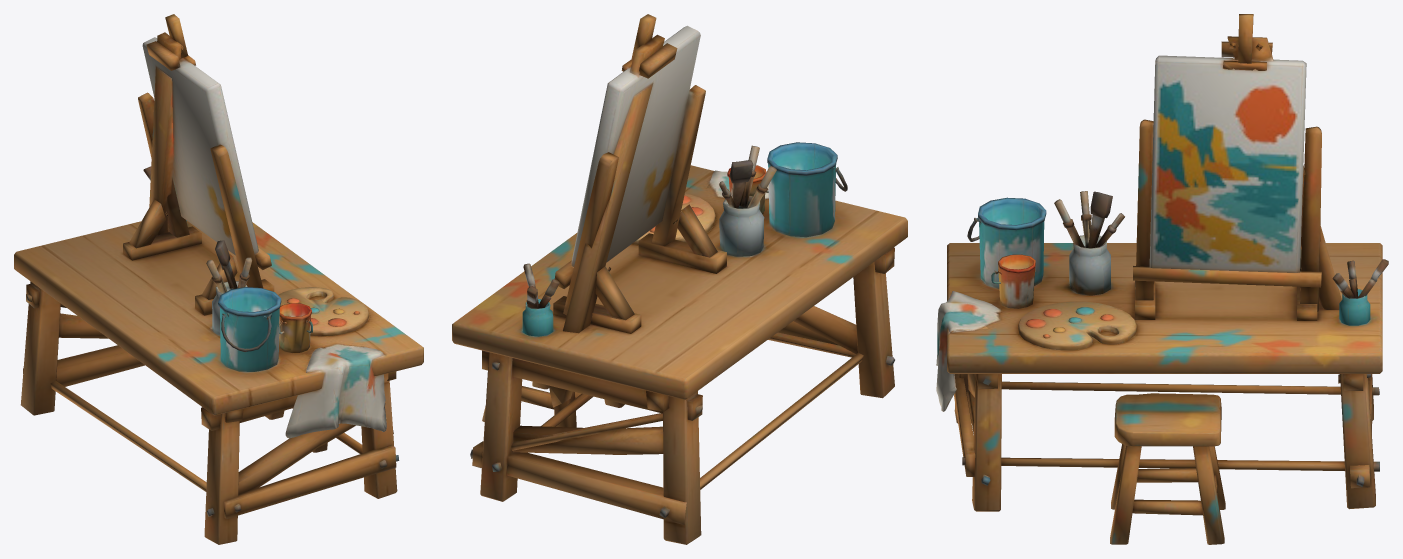
Rendered from c3aa97a7-workshop-web.glb.
3 views of the same model, side by side, from view 1: azimuth 30°, elevation 25°; view 2: azimuth 150°, elevation 25°; view 3: azimuth 270°, elevation 25° (orthographic). The views are drawn at different scales.
Visible parts, largest first — view 1: tripo_node_75602415-e9f7-4f50-8846-846069ea1135; view 2: tripo_node_75602415-e9f7-4f50-8846-846069ea1135; view 3: tripo_node_75602415-e9f7-4f50-8846-846069ea1135.
Part boxes in pixels (box(x1,y1,x2,y2)): tripo_node_75602415-e9f7-4f50-8846-846069ea1135: box(14, 14, 423, 544); tripo_node_75602415-e9f7-4f50-8846-846069ea1135: box(452, 14, 907, 544); tripo_node_75602415-e9f7-4f50-8846-846069ea1135: box(936, 14, 1388, 544).
Bounding box in the file's own units: 0.6543 × 0.998 × 0.916.
1 material, 1 textured.
